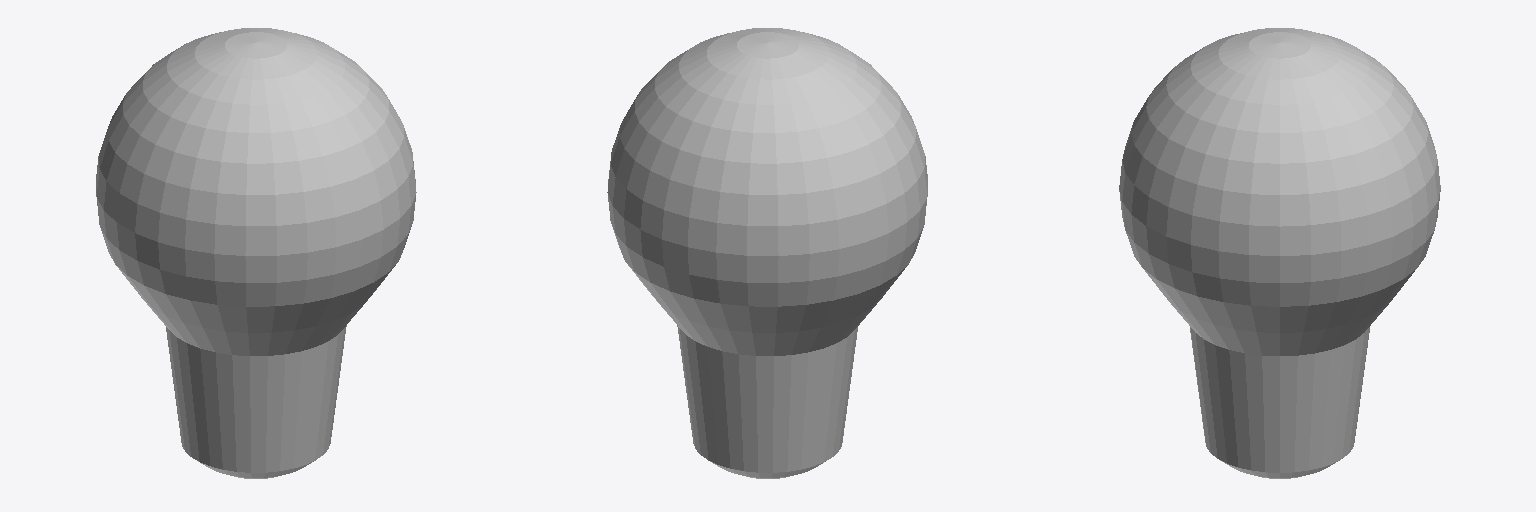
File: point.obj
3 views of the same model, side by side, from view 1: azimuth 30°, elevation 25°; view 2: azimuth 150°, elevation 25°; view 3: azimuth 270°, elevation 25° (orthographic).
Parts seen in each view (by area): view 1: Point_Sphere.001; view 2: Point_Sphere.001; view 3: Point_Sphere.001.
Part boxes in pixels (bbox=[...]): Point_Sphere.001: bbox=[96, 28, 416, 478]; Point_Sphere.001: bbox=[607, 28, 927, 478]; Point_Sphere.001: bbox=[1119, 28, 1440, 478].
Size of the model in its own units: 2 by 2.93 by 2.